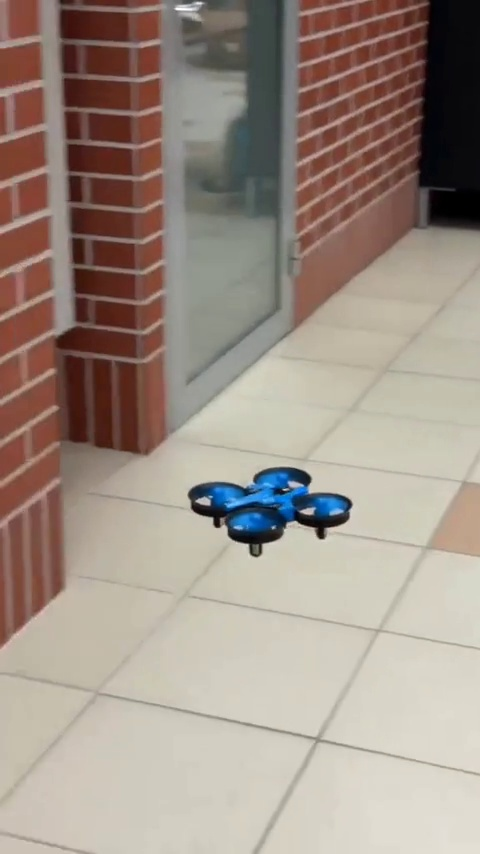drone: (186, 466, 355, 563)
